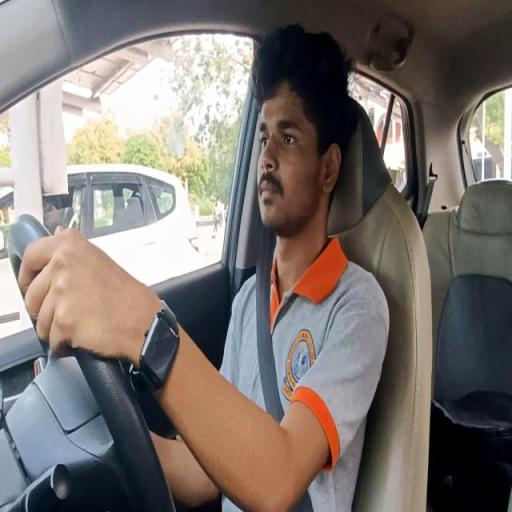Normal: (18, 21, 392, 512)
